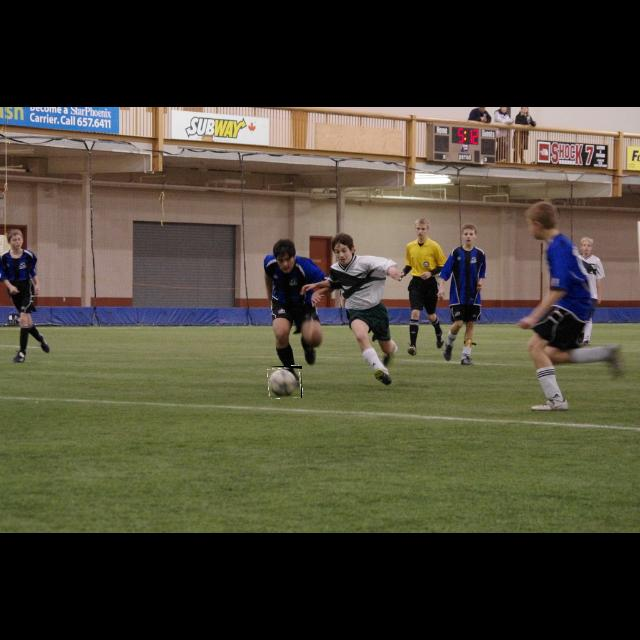Football: (268, 366, 302, 398)
